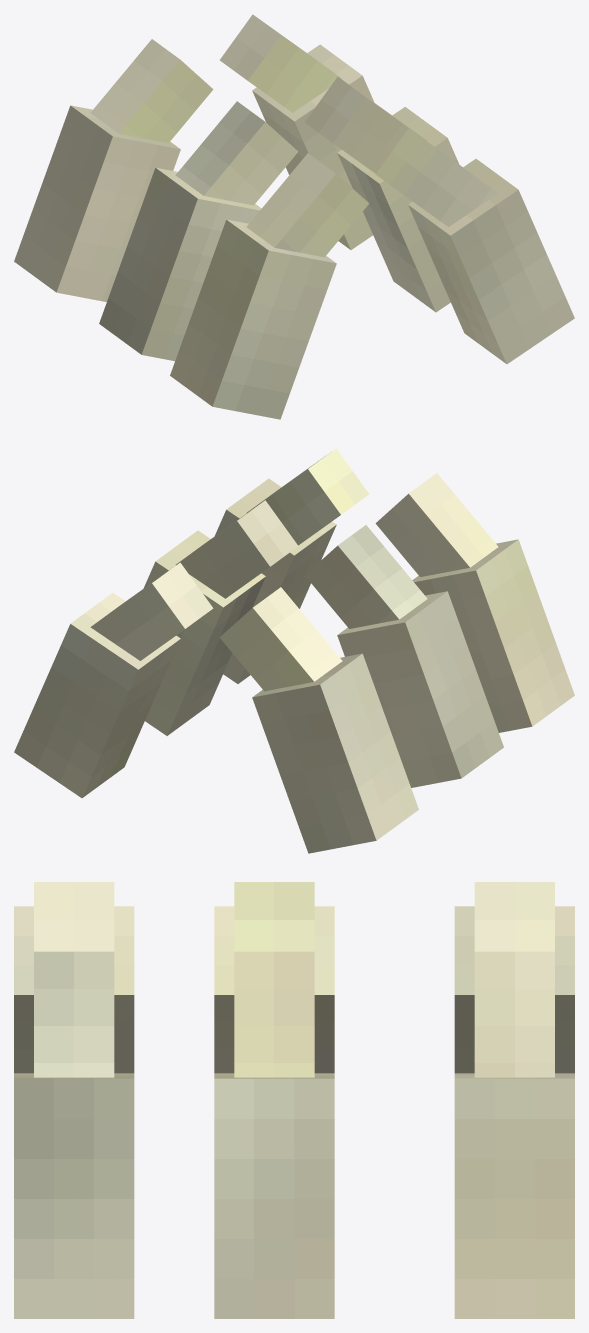
File: bone_pile.obj
3 renders of one model, top to bottom at view 1: azimuth 30°, elevation 25°; view 2: azimuth 150°, elevation 25°; view 3: azimuth 270°, elevation 25°, orthographic. The views are drawn at different scales.
Visible parts, largest first — view 1: cube; view 2: cube; view 3: cube.
Boxes of the visible parts, left/top/right/bottom form: cube: left=14, top=14, right=574, bottom=419; cube: left=14, top=448, right=574, bottom=853; cube: left=14, top=882, right=574, bottom=1318.
Size of the model in its own units: 0.9228 by 0.5484 by 0.875.
